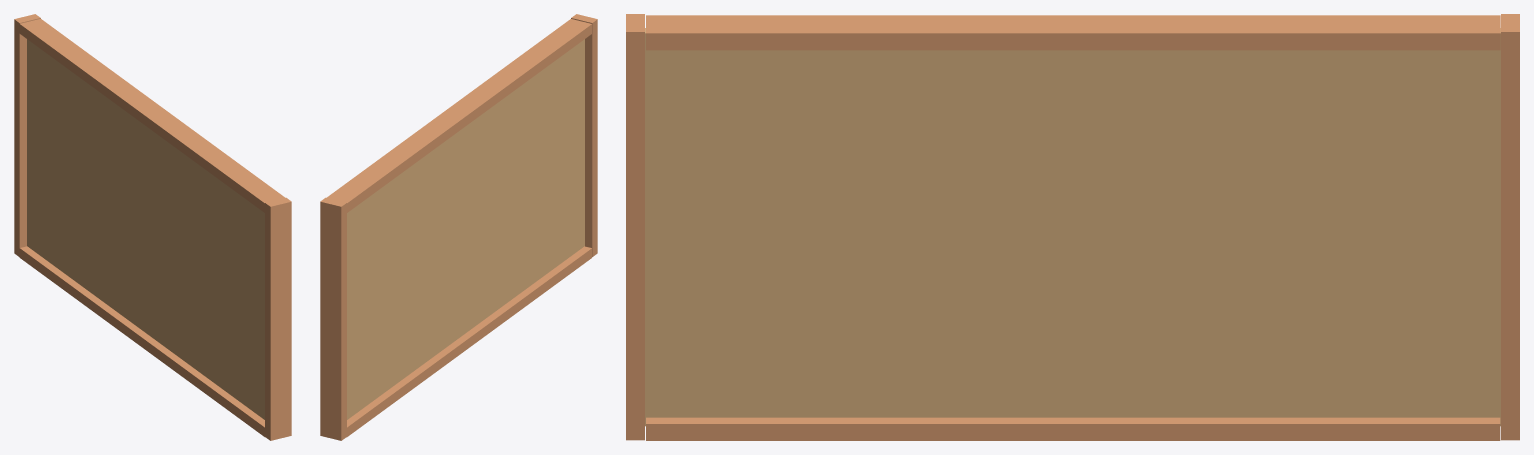
File: Board.fbx
The picture shows the model from 3 angles, left to right: view 1: azimuth 30°, elevation 25°; view 2: azimuth 150°, elevation 25°; view 3: azimuth 270°, elevation 25°; orthographic projection. The views are drawn at different scales.
Visible parts, largest first — view 1: Cube, Cube.003, Cube.001, Cube.004, Cube.002; view 2: Cube, Cube.003, Cube.002, Cube.004, Cube.001; view 3: Cube, Cube.003, Cube.004, Cube.001, Cube.002.
Part boxes in pixels (x1=…): Cube: x1=27, y1=39, x2=264, y2=419; Cube.003: x1=19, y1=19, x2=285, y2=212; Cube.001: x1=265, y1=197, x2=291, y2=440; Cube.004: x1=19, y1=246, x2=264, y2=436; Cube.002: x1=14, y1=14, x2=40, y2=256; Cube: x1=347, y1=39, x2=584, y2=419; Cube.003: x1=326, y1=19, x2=591, y2=212; Cube.002: x1=320, y1=197, x2=346, y2=440; Cube.004: x1=347, y1=246, x2=591, y2=436; Cube.001: x1=571, y1=14, x2=597, y2=257; Cube: x1=645, y1=28, x2=1500, y2=426; Cube.003: x1=646, y1=15, x2=1500, y2=50; Cube.004: x1=646, y1=417, x2=1500, y2=440; Cube.001: x1=626, y1=14, x2=644, y2=440; Cube.002: x1=1501, y1=14, x2=1519, y2=440.
Size of the model in its own units: 45.22 by 477 by 944.
